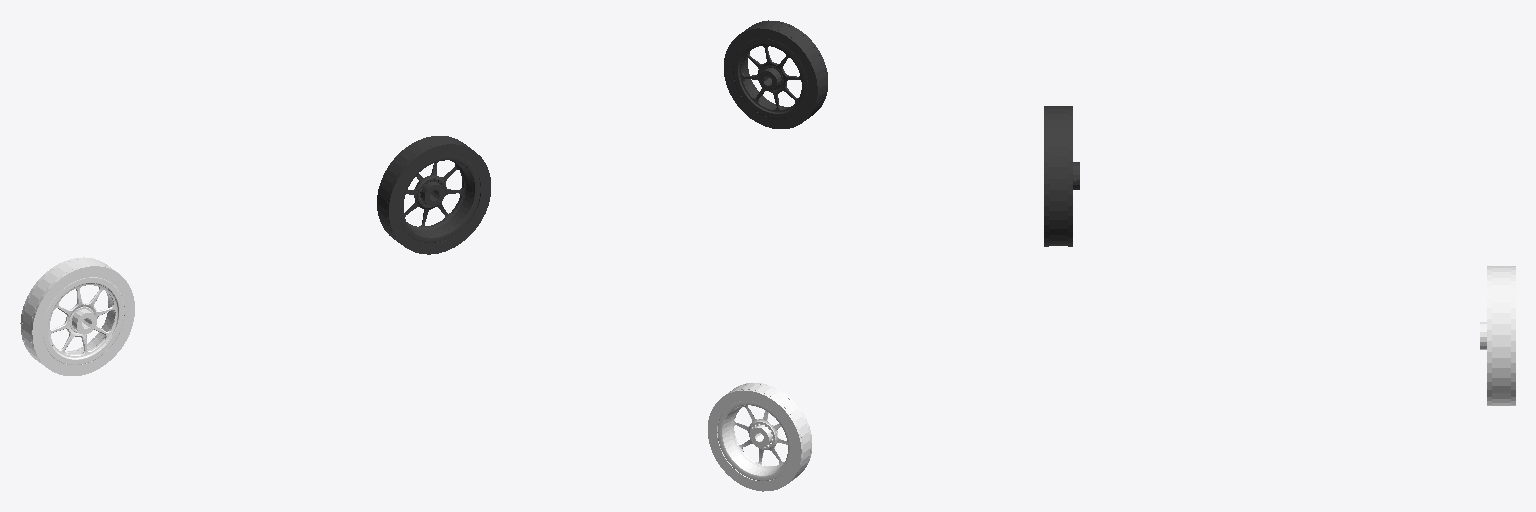
robot.urdf — mobileBot_v1.1.SLDASM:
<?xml version="1.0" encoding="utf-8"?>
<!-- This URDF was automatically created by SolidWorks to URDF Exporter! Originally created by [author] ([email redacted]) 
     Commit Version: 1.5.0-0-g9aa0fdb  Build Version: 1.5.7004.21443
     For more information, please see http://wiki.ros.org/sw_urdf_exporter -->
<robot
  name="mobileBot_v1.1.SLDASM">
  <link
    name="base_link">
    <inertial>
      <origin
        xyz="-0.087099 0.14944 -0.11449"
        rpy="0 0 0" />
      <mass
        value="2.4934" />
      <inertia
        ixx="0.0020891"
        ixy="2.4468E-05"
        ixz="1.5643E-05"
        iyy="0.0035574"
        iyz="-1.3033E-06"
        izz="0.0018307" />
    </inertial>
    <visual>
      <origin
        xyz="0 0 0"
        rpy="0 0 0" />
      <geometry>
        <mesh
          filename="package://mobileBot_v1.1.SLDASM/meshes/base_link.STL" />
      </geometry>
      <material
        name="">
        <color
          rgba="1 1 1 1" />
      </material>
    </visual>
    <collision>
      <origin
        xyz="0 0 0"
        rpy="0 0 0" />
      <geometry>
        <mesh
          filename="package://mobileBot_v1.1.SLDASM/meshes/base_link.STL" />
      </geometry>
    </collision>
  </link>
  <link
    name="Wheel_left">
    <inertial>
      <origin
        xyz="-1.1518E-06 -2.3258E-07 0.0093208"
        rpy="0 0 0" />
      <mass
        value="0.039873" />
      <inertia
        ixx="1.4719E-05"
        ixy="3.7324E-10"
        ixz="-4.8538E-10"
        iyy="1.4718E-05"
        iyz="-8.4554E-11"
        izz="2.849E-05" />
    </inertial>
    <visual>
      <origin
        xyz="0 0 0"
        rpy="0 0 0" />
      <geometry>
        <mesh
          filename="package://mobileBot_v1.1.SLDASM/meshes/Wheel_left.STL" />
      </geometry>
      <material
        name="">
        <color
          rgba="0.29804 0.29804 0.29804 1" />
      </material>
    </visual>
    <collision>
      <origin
        xyz="0 0 0"
        rpy="0 0 0" />
      <geometry>
        <mesh
          filename="package://mobileBot_v1.1.SLDASM/meshes/Wheel_left.STL" />
      </geometry>
    </collision>
  </link>
  <joint
    name="Wheel_left"
    type="continuous">
    <origin
      xyz="-0.11809 0.012304 0.12149"
      rpy="1.5708 0.087266 -3.1416" />
    <parent
      link="base_link" />
    <child
      link="Wheel_left" />
    <axis
      xyz="0 0 1" />
    <safety_controller
      k_velocity="0" />
  </joint>
  <link
    name="Wheel_right">
    <inertial>
      <origin
        xyz="0 0 0"
        rpy="0 0 0" />
      <mass
        value="0" />
      <inertia
        ixx="0"
        ixy="0"
        ixz="0"
        iyy="0"
        iyz="0"
        izz="0" />
    </inertial>
    <visual>
      <origin
        xyz="0 0 0"
        rpy="0 0 0" />
      <geometry>
        <mesh
          filename="package://mobileBot_v1.1.SLDASM/meshes/Wheel_right.STL" />
      </geometry>
      <material
        name="">
        <color
          rgba="1 1 1 1" />
      </material>
    </visual>
    <collision>
      <origin
        xyz="0 0 0"
        rpy="0 0 0" />
      <geometry>
        <mesh
          filename="package://mobileBot_v1.1.SLDASM/meshes/Wheel_right.STL" />
      </geometry>
    </collision>
  </link>
  <joint
    name="Wheel_right"
    type="continuous">
    <origin
      xyz="-0.118091607996244 0.201245982242358 0.121486933359852"
      rpy="1.5707963267949 1.5707963267949 0" />
    <parent
      link="base_link" />
    <child
      link="Wheel_right" />
    <axis
      xyz="0 0 1" />
    <safety_controller
      k_velocity="0" />
  </joint>
</robot>

--- Render facts (derived) ---
The picture shows the robot from 3 angles, left to right: view 1: azimuth 30°, elevation 25°; view 2: azimuth 150°, elevation 25°; view 3: azimuth 270°, elevation 25°; orthographic projection.
Model mobileBot_v1.1.SLDASM with 3 links and 2 joints (2 continuous), rooted at base_link, posed every joint at zero.
Visible links, largest first — view 1: Wheel_right, Wheel_left; view 2: Wheel_right, Wheel_left; view 3: Wheel_left, Wheel_right.
Link boxes in pixels (x1,y1,x2,y2): Wheel_right: (20,257,134,375); Wheel_left: (377,136,490,254); Wheel_right: (708,383,811,491); Wheel_left: (724,20,827,128); Wheel_left: (1044,106,1079,246); Wheel_right: (1480,266,1515,405).
Size in the robot's own frame: 0.172 by 0.2176 by 0.1963 metres.
2 mesh visuals loaded from 3 distinct referenced files (2 binary STL); not drawn: 1 (reference not matched to a file when rendering).